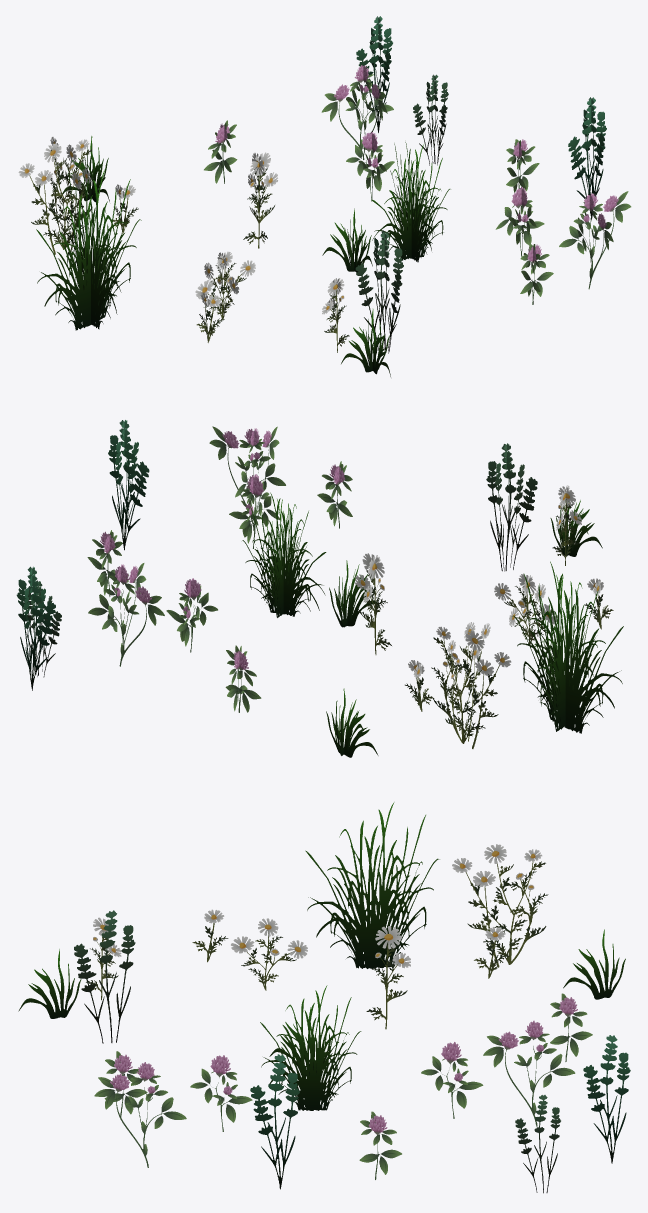
The model's file is flowers1.glb.
3 renders of one model, top to bottom at view 1: azimuth 30°, elevation 25°; view 2: azimuth 150°, elevation 25°; view 3: azimuth 270°, elevation 25°, orthographic. The views are drawn at different scales.
Visible parts, largest first — view 1: flowers(noColl)(light); view 2: flowers(noColl)(light); view 3: flowers(noColl)(light).
Part boxes in pixels (left/top/right/bottom): flowers(noColl)(light): left=18, top=16, right=631, bottom=376; flowers(noColl)(light): left=16, top=420, right=623, bottom=757; flowers(noColl)(light): left=18, top=802, right=630, bottom=1193.
Size of the model in its own units: 12.43 by 3.72 by 11.17.
Materials: 1 (1 with a texture image).
